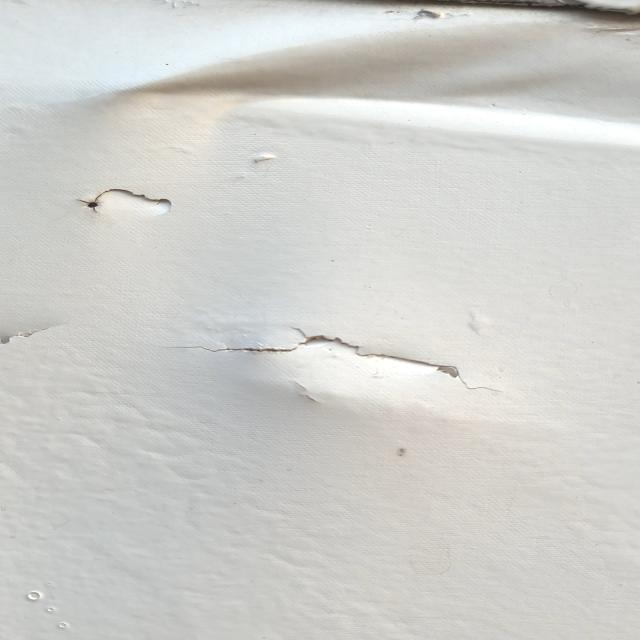Dents or Deformation: (97, 1, 640, 159)
Scratches: (155, 306, 543, 400), (61, 177, 209, 239), (1, 301, 78, 366)
